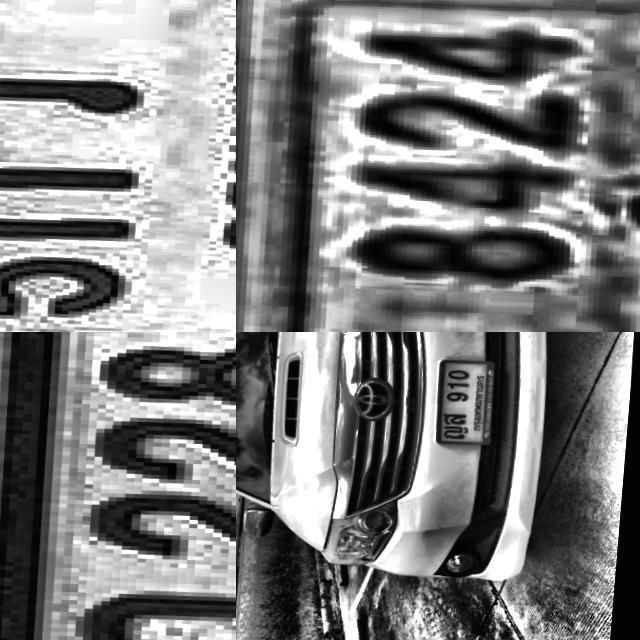license-plate: (236, 0, 640, 332), (0, 0, 236, 332), (0, 332, 236, 640), (435, 351, 503, 442)
